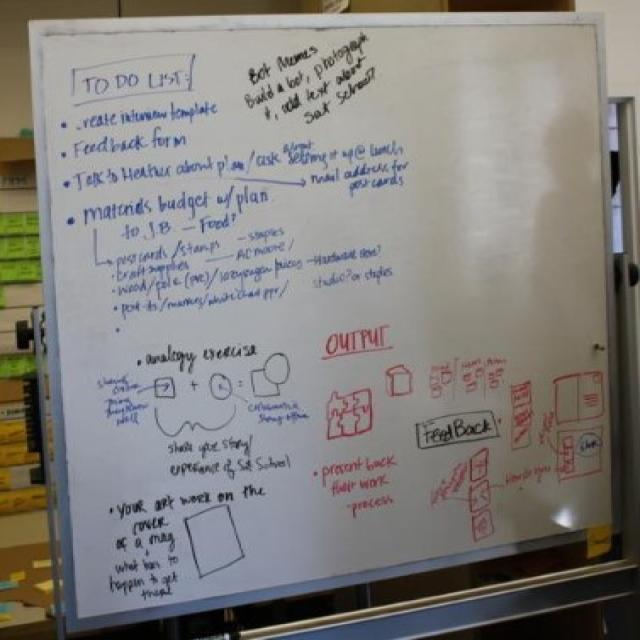White-board: (39, 13, 611, 632)
